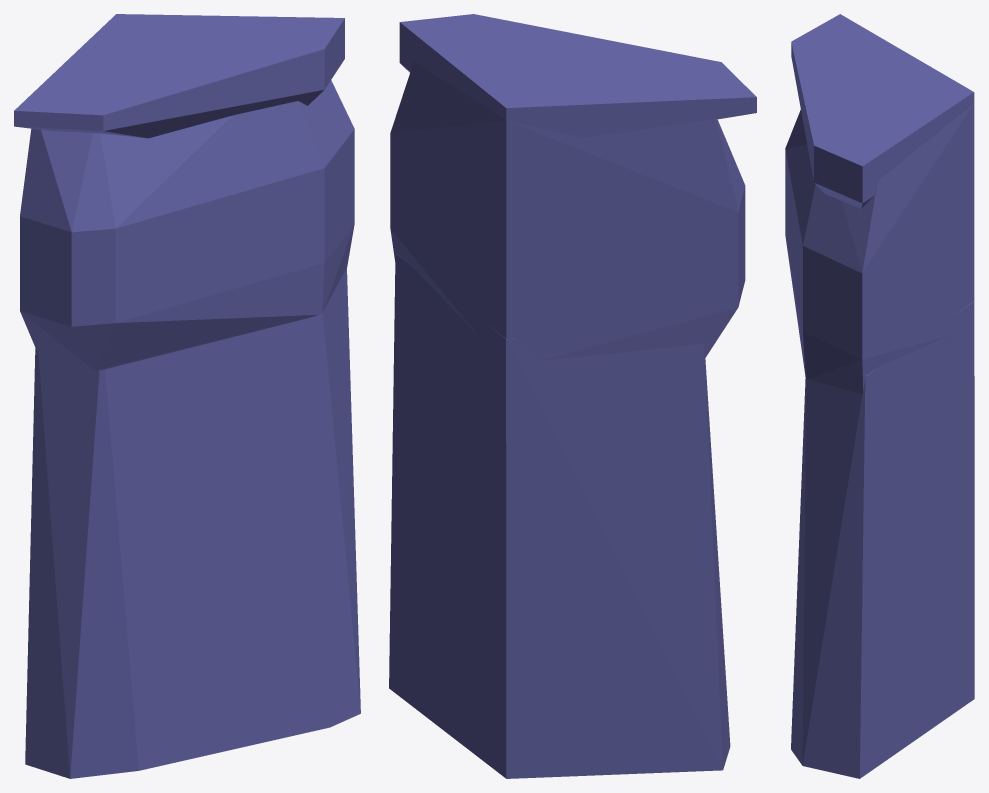
Rendered from Cliff_Corner_02_Collider_01.FBX.
The picture shows the model from 3 angles, left to right: view 1: azimuth 30°, elevation 25°; view 2: azimuth 150°, elevation 25°; view 3: azimuth 270°, elevation 25°; orthographic projection. The views are drawn at different scales.
Visible parts, largest first — view 1: COLLIDER1, COLLIDER2, COLLIDER3; view 2: COLLIDER1, COLLIDER2, COLLIDER3; view 3: COLLIDER1, COLLIDER2, COLLIDER3.
Boxes of the visible parts, bbox=[...] form: COLLIDER1: bbox=[25, 268, 360, 778]; COLLIDER2: bbox=[20, 80, 354, 370]; COLLIDER3: bbox=[14, 14, 344, 138]; COLLIDER1: bbox=[389, 253, 730, 778]; COLLIDER2: bbox=[390, 61, 745, 360]; COLLIDER3: bbox=[399, 14, 756, 137]; COLLIDER1: bbox=[791, 301, 974, 778]; COLLIDER2: bbox=[785, 103, 974, 395]; COLLIDER3: bbox=[791, 14, 974, 208].
Bounding box in the file's own units: 371 × 665 × 188.
